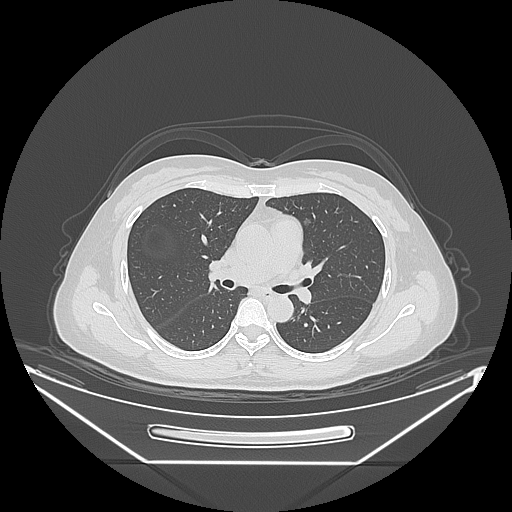nodule: (303, 217, 311, 225)
